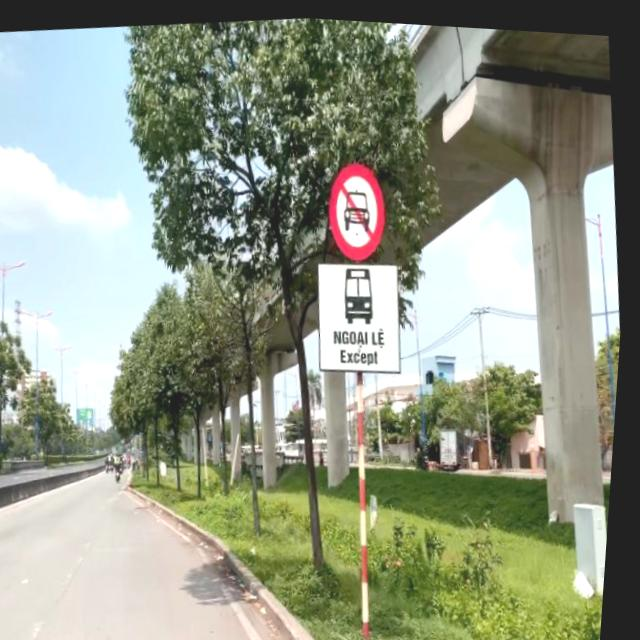Cam xe oto: (325, 156, 393, 259)
